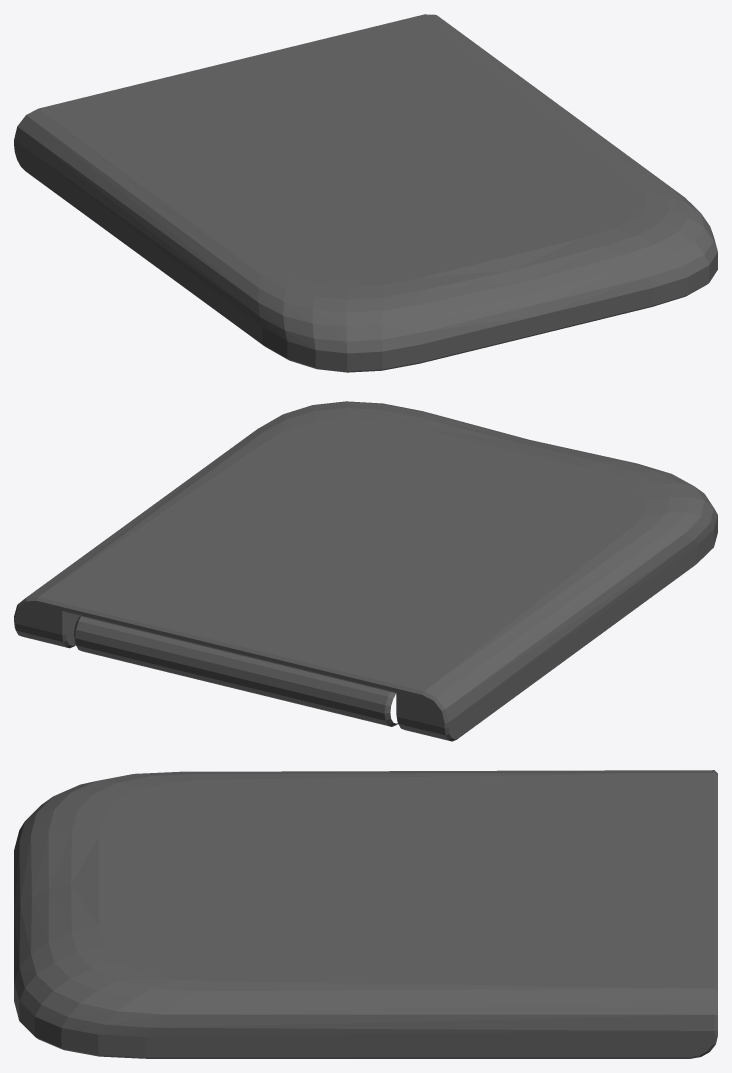
File: AEC_43559.glb
3 views of the same model, one above another, from view 1: azimuth 30°, elevation 25°; view 2: azimuth 150°, elevation 25°; view 3: azimuth 270°, elevation 25° (orthographic). The views are drawn at different scales.
Visible parts, largest first — view 1: 0; view 2: 0; view 3: 0.
Part boxes in pixels (<box>): 0: <box>14,14,717,372</box>; 0: <box>14,401,717,741</box>; 0: <box>14,770,717,1058</box>.
Bounding box in the file's own units: 0.3581 × 0.04 × 0.4391.
1 material, 1 textured.
